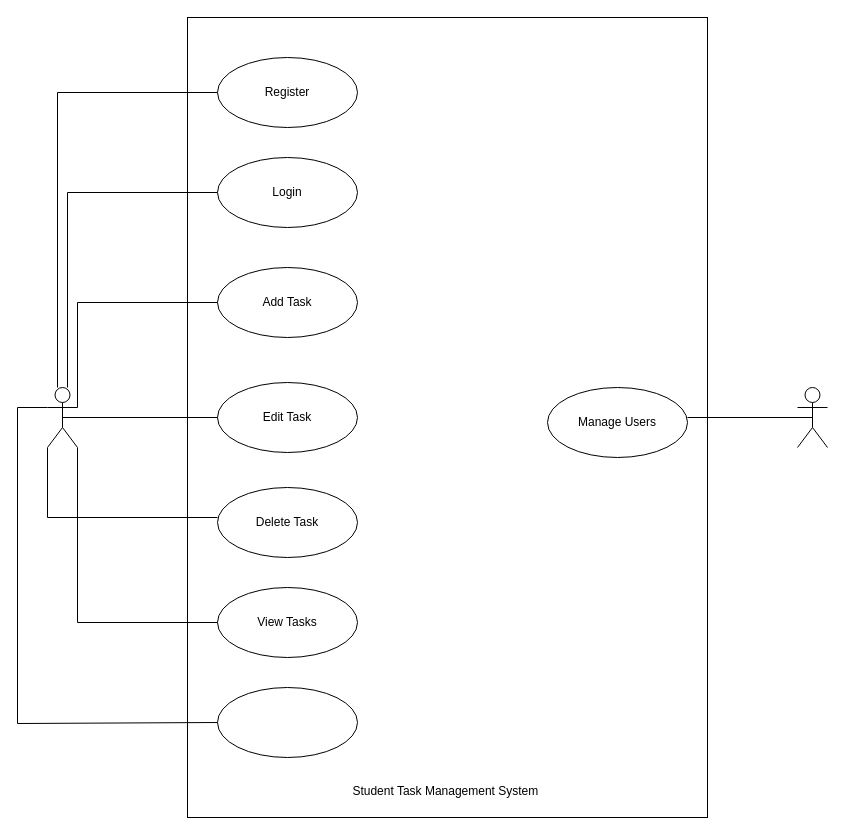
Some shapes in this 847 by 835 pixel diagram are drawn without their labels. The box of each missing label's shape, as (x1, y1, x2, y2) in pixels:
Admin: (796, 386, 828, 448)
Mark Task Complete: (216, 686, 358, 758)
Student: (46, 386, 78, 448)
